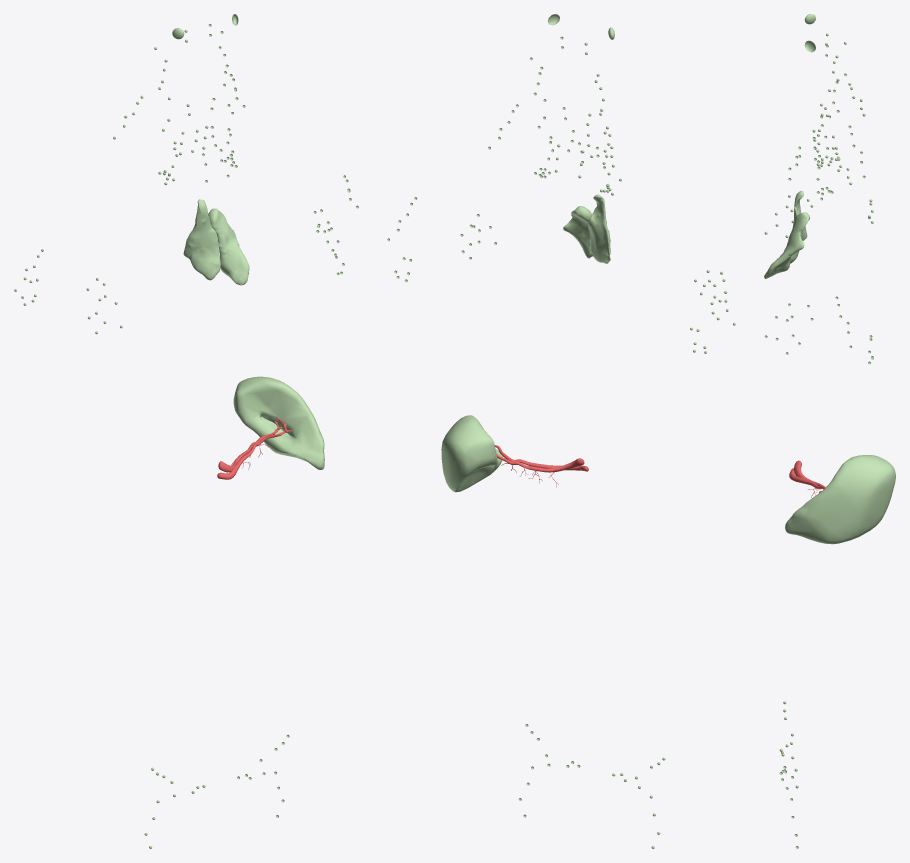
The model's file is linfatico.glb.
3 views of the same model, side by side, from view 1: azimuth 30°, elevation 25°; view 2: azimuth 150°, elevation 25°; view 3: azimuth 270°, elevation 25° (orthographic). The views are drawn at different scales.
Parts seen in each view (by area): view 1: bazo, timo-d, timo-i, ganglios-cervicales; view 2: bazo, timo-d, timo-i, ganglios-cervicales; view 3: bazo, timo-i, ganglios-cervicales, ganglios-axilares, timo-d.
Boxes of the visible parts, x1,y1,x2,y2 form: bazo: (233,376,324,469); timo-d: (183,199,220,280); timo-i: (208,208,249,285); ganglios-cervicales: (113,24,245,184); bazo: (441,415,503,492); timo-d: (587,194,610,263); timo-i: (563,206,592,258); ganglios-cervicales: (488,36,621,195); bazo: (785,455,895,544); timo-i: (764,212,809,278); ganglios-cervicales: (788,33,865,200); ganglios-axilares: (764,152,873,364); timo-d: (790,191,807,263).
Size of the model in its own units: 0.3334 by 0.7474 by 0.1131.
